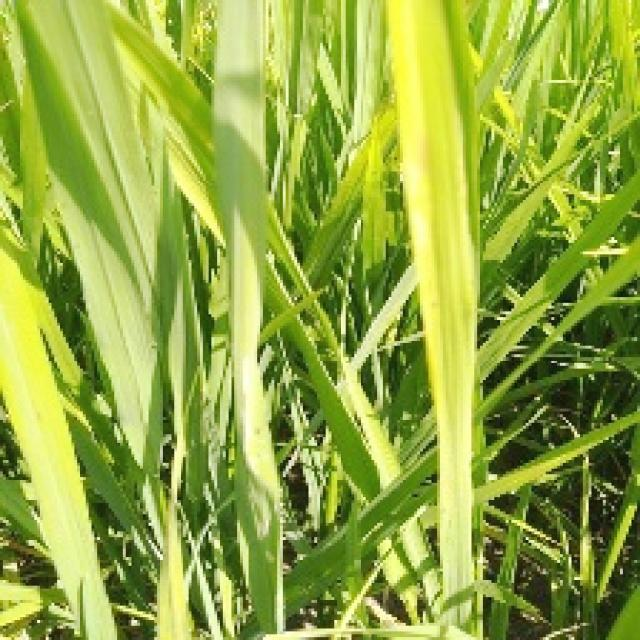health: (0, 0, 477, 471)
